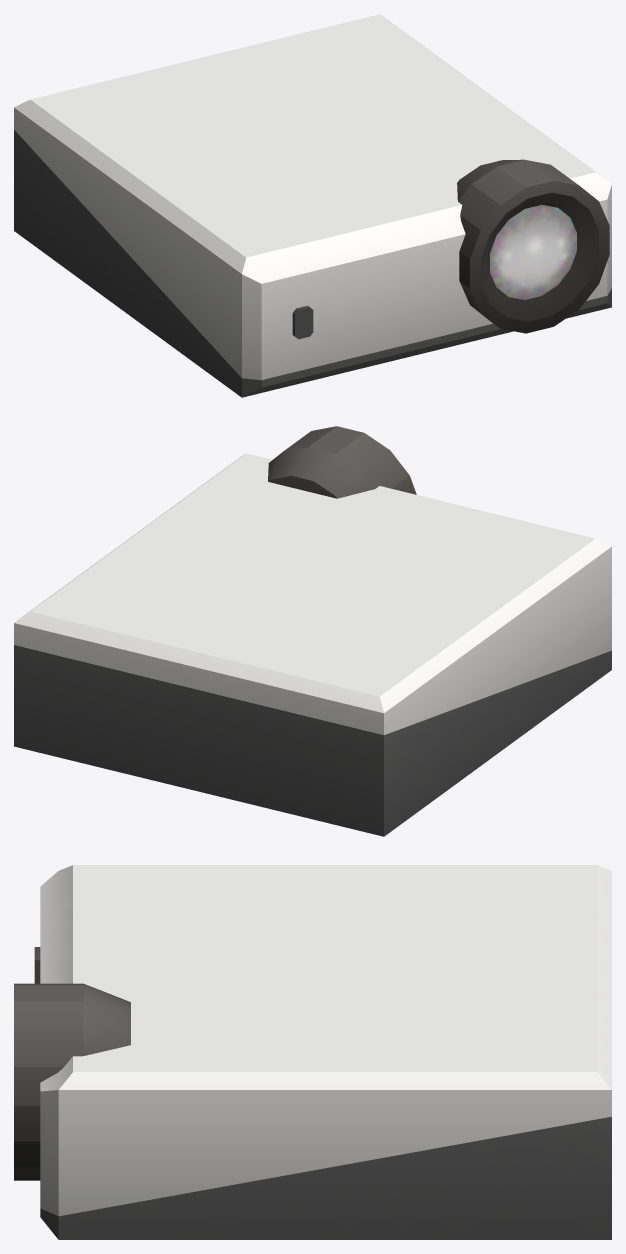
File: Projector.fbx
3 renders of one model, top to bottom at view 1: azimuth 30°, elevation 25°; view 2: azimuth 150°, elevation 25°; view 3: azimuth 270°, elevation 25°, orthographic. The views are drawn at different scales.
Parts seen in each view (by area): view 1: Projector; view 2: Projector; view 3: Projector.
Part boxes in pixels (left/top/right/bottom): Projector: left=14, top=14, right=611, bottom=397; Projector: left=14, top=426, right=611, bottom=836; Projector: left=14, top=865, right=611, bottom=1239.
Bounding box in the file's own units: 30 × 13.1 × 34.58.
